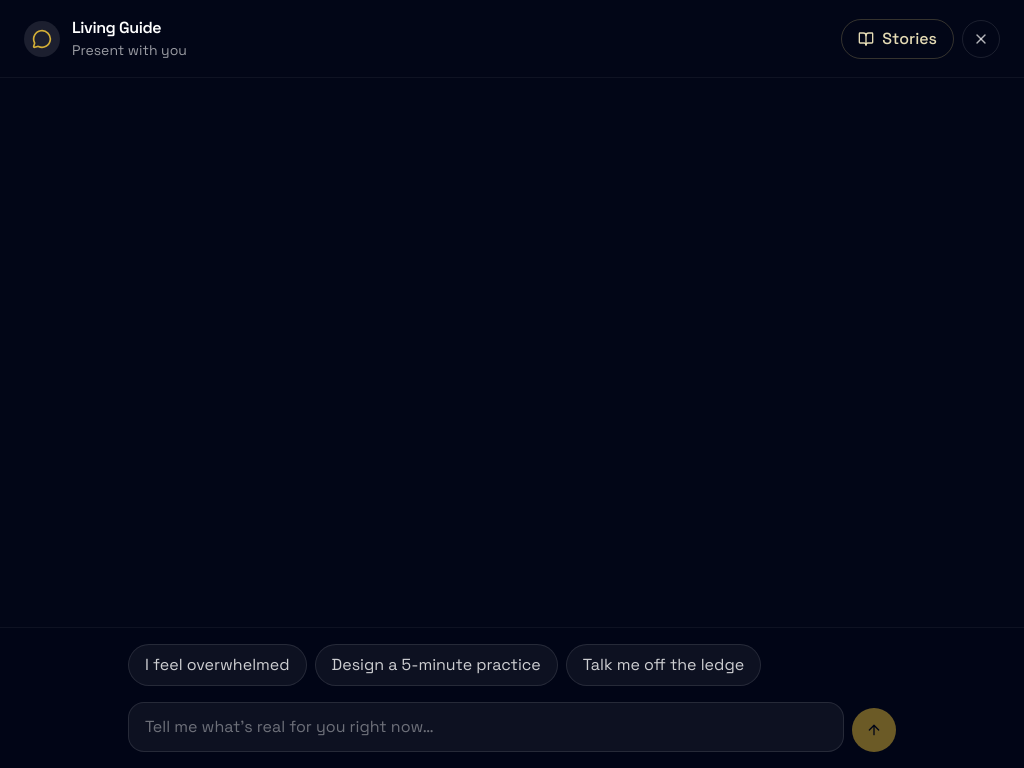
GuidePage › sends each prompt once with recent conversation context
The width and height of the screenshot is (1024, 768).
Step 1. Type "I can't sleep" into the text box named "Message the Living Guide" → (486, 727), box [128,702,844,752]
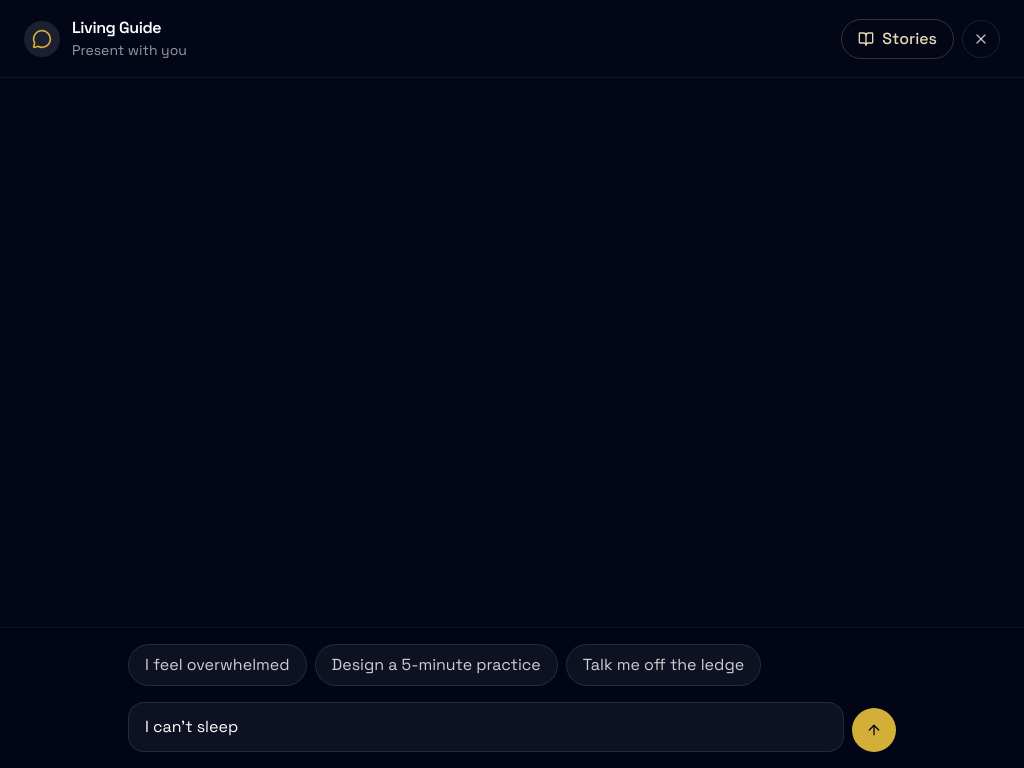
Step 2. Click the button named "Send message" → (874, 730), box [852,708,896,752]
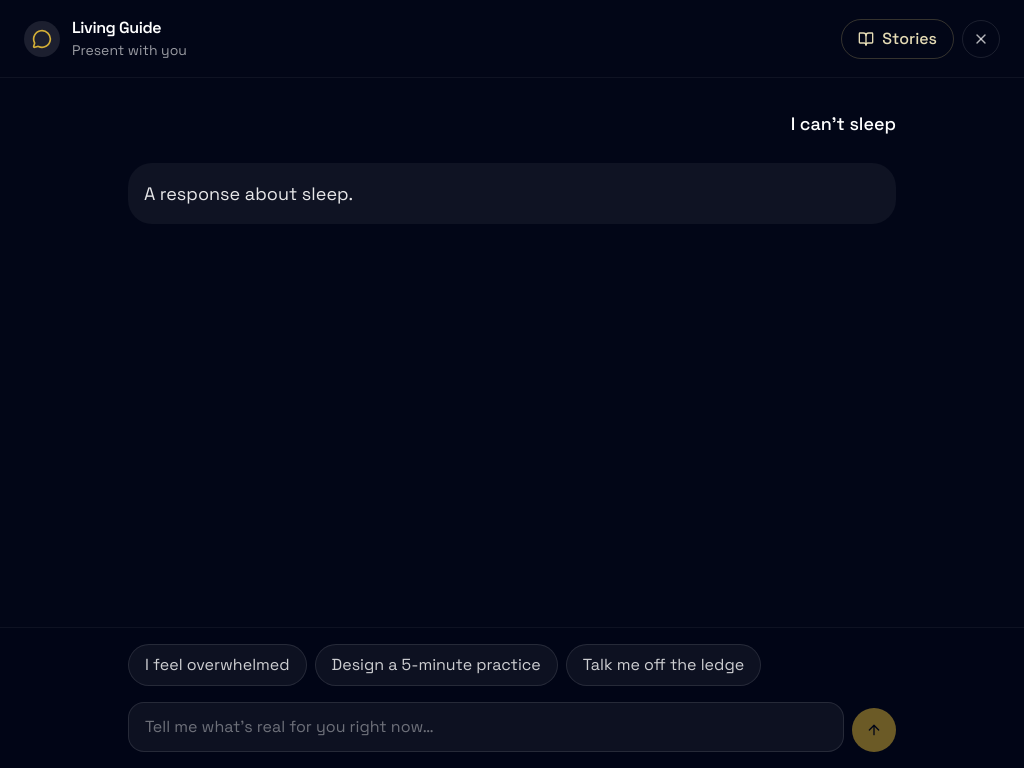
Expected: the text "A response about sleep." is shown, [128,163,896,224]
Step 3. Type "Help me plan for tomorrow" into the text box named "Message the Living Guide" → (486, 727), box [128,702,844,752]
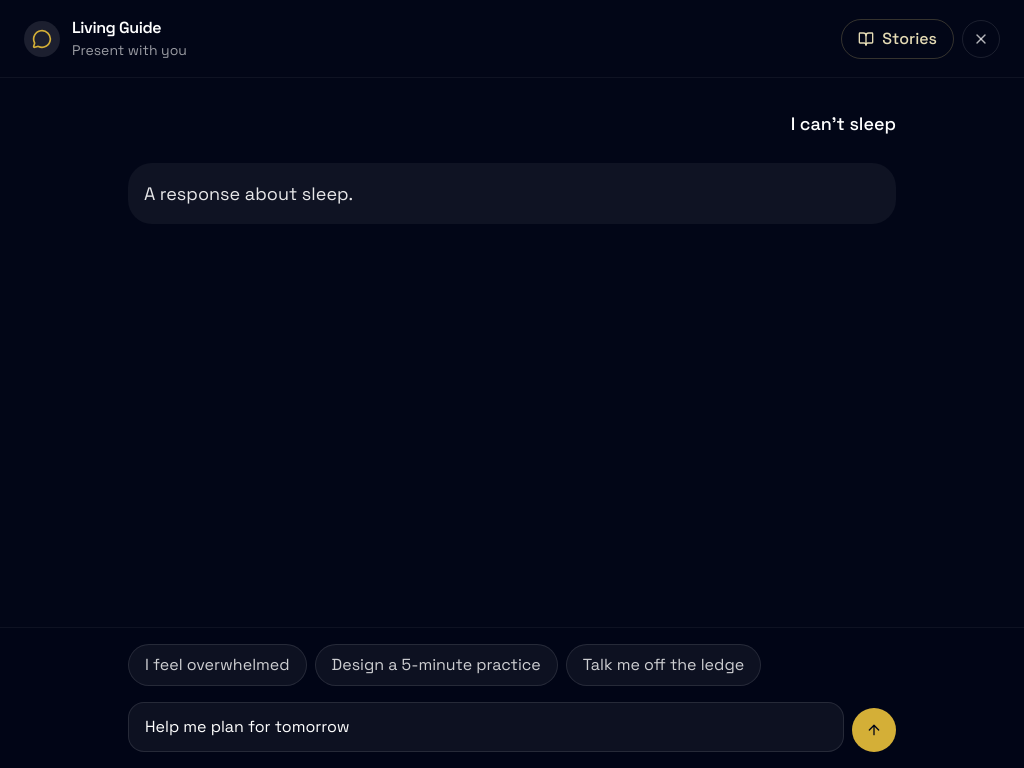
Step 4. Click the button named "Send message" → (874, 730), box [852,708,896,752]
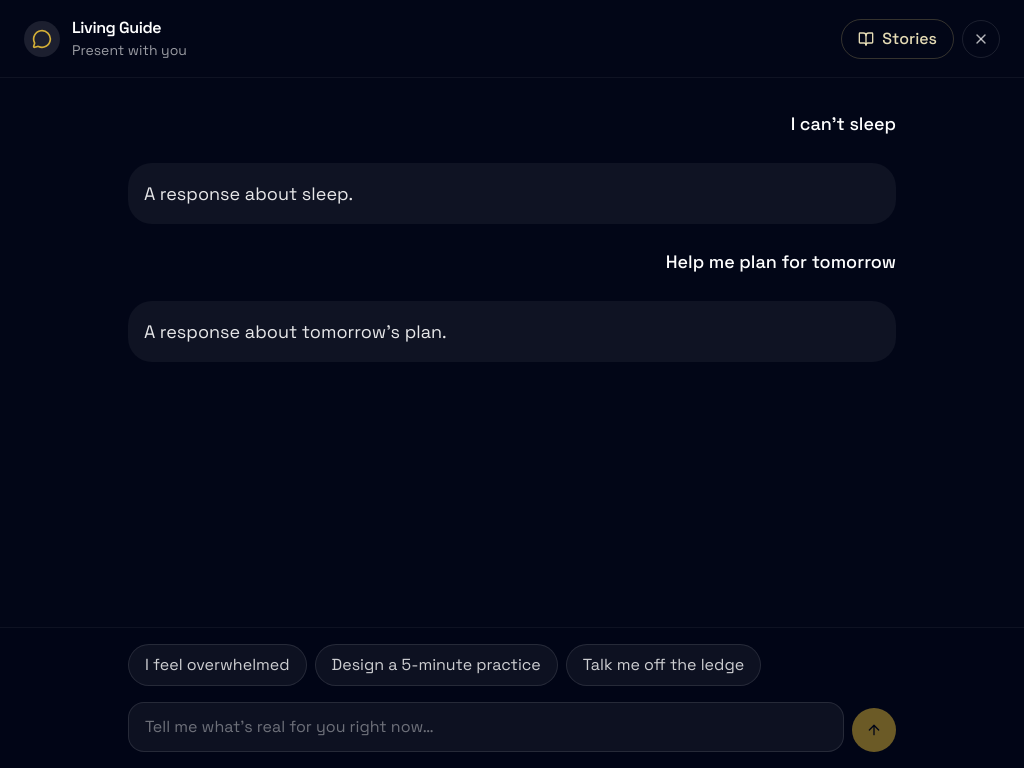
Expected: the text "I can't sleep" is shown once, [791,112,896,135]
Expected: the text "I can't sleep" is shown, [791,112,896,135]
Expected: the text "A response about tomorrow's plan." is shown, [128,301,896,362]
